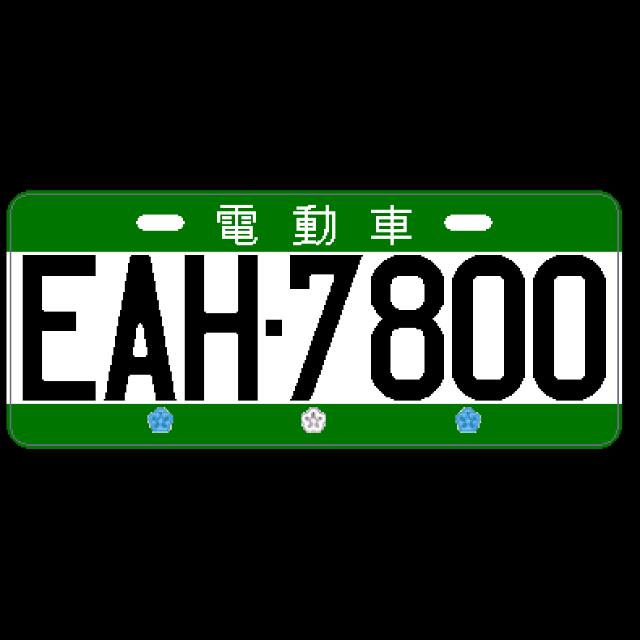plate: (3, 188, 624, 450)
